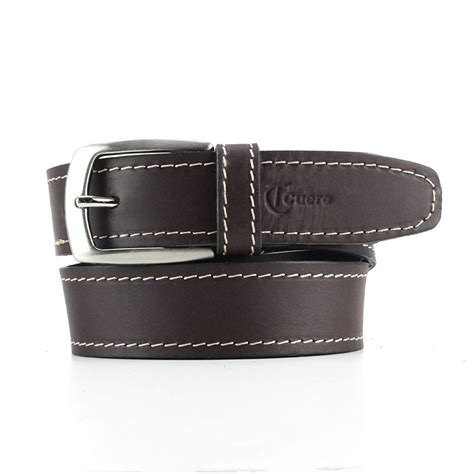cuero: (45, 143, 443, 361)
